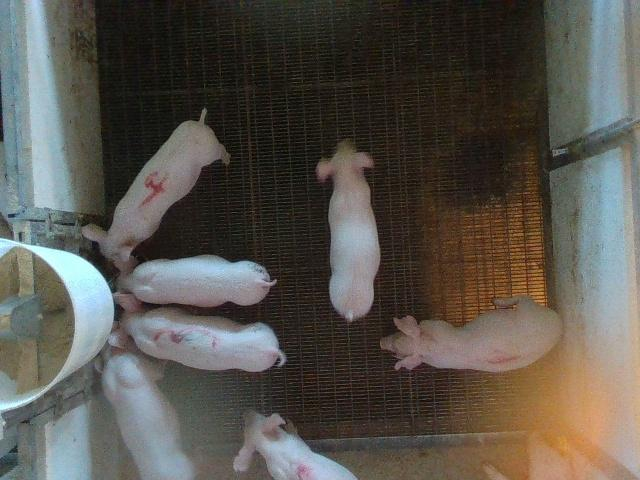pig-1: (380, 295, 562, 372)
pig-3: (109, 294, 286, 371)
pig-4: (82, 109, 230, 274)
